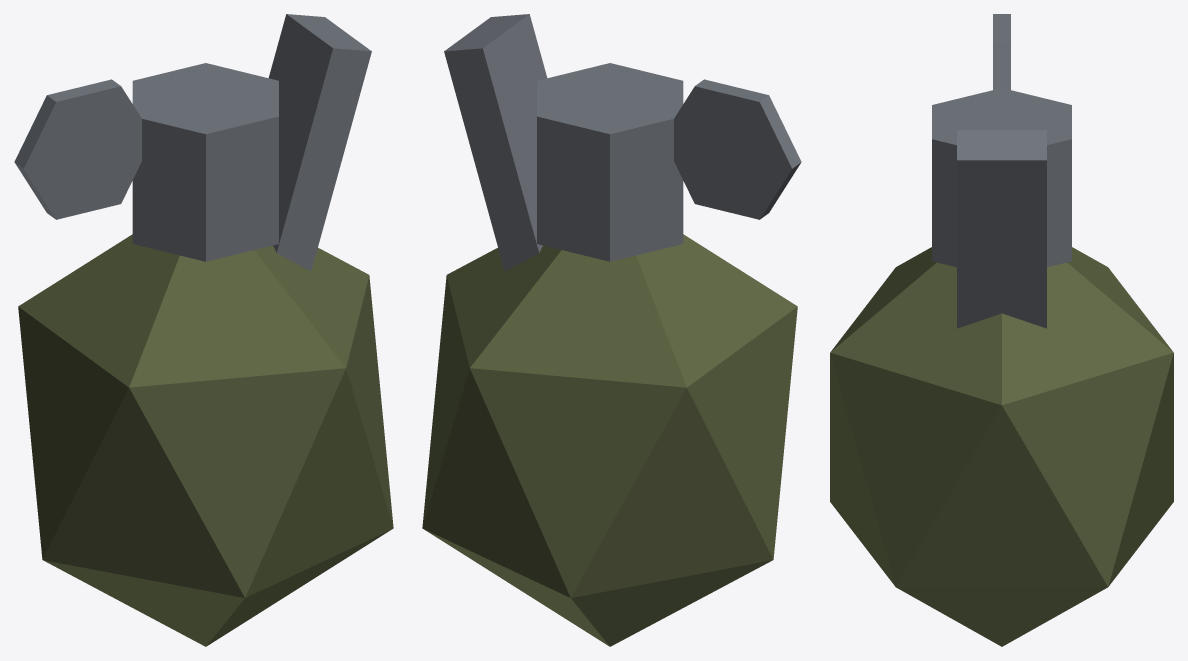
The model's file is w_grenade.glb.
The picture shows the model from 3 angles, left to right: view 1: azimuth 30°, elevation 25°; view 2: azimuth 150°, elevation 25°; view 3: azimuth 270°, elevation 25°; orthographic projection. The views are drawn at different scales.
Parts seen in each view (by area): view 1: w_grenade; view 2: w_grenade; view 3: w_grenade.
Part boxes in pixels (x1=…): w_grenade: x1=14, y1=14, x2=393, y2=646; w_grenade: x1=422, y1=14, x2=801, y2=646; w_grenade: x1=830, y1=14, x2=1173, y2=646.
Bounding box in the file's own units: 0.0862 × 0.1389 × 0.0766.
